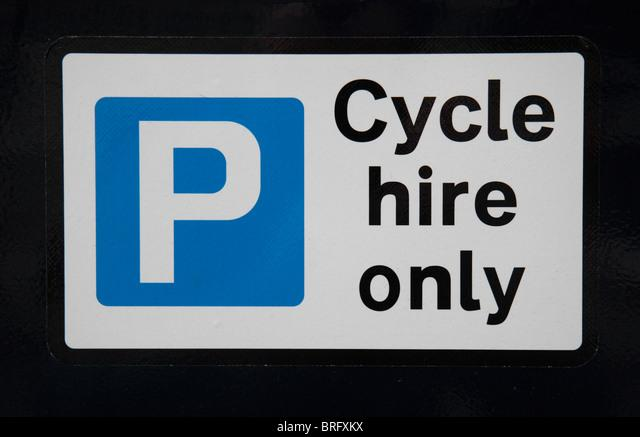Parking Lot Cycle: (48, 49, 324, 340), (327, 237, 579, 344), (321, 55, 577, 155)
